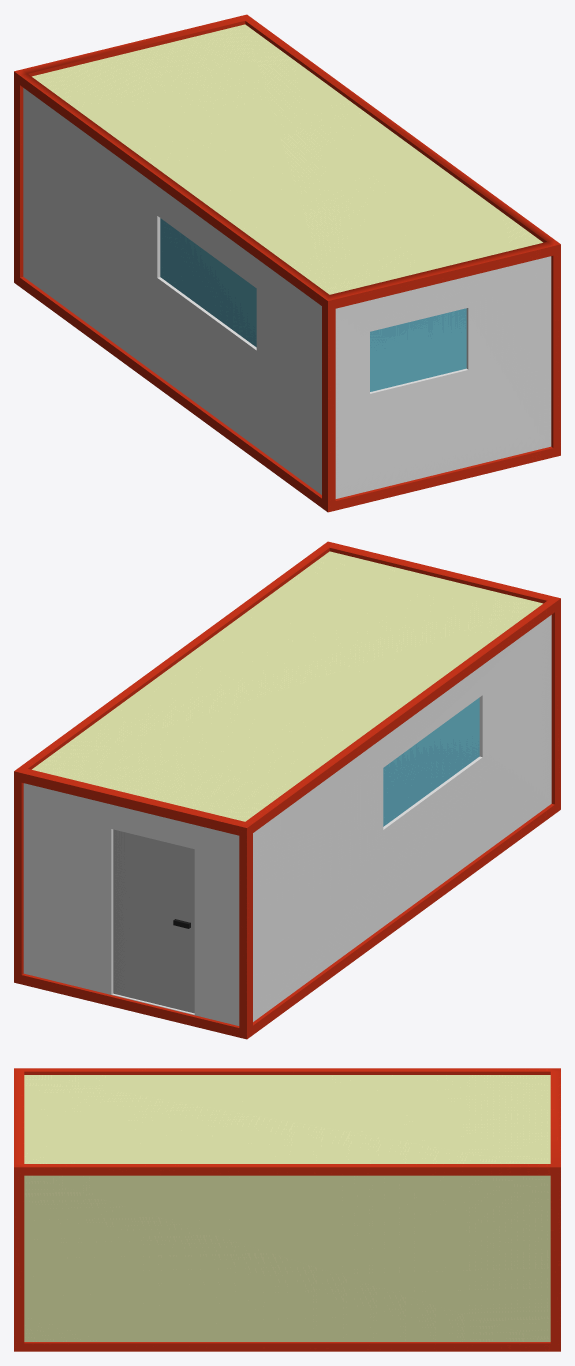
Rendered from container-office-red.glb.
3 views of the same model, one above another, from view 1: azimuth 30°, elevation 25°; view 2: azimuth 150°, elevation 25°; view 3: azimuth 270°, elevation 25° (orthographic). The views are drawn at different scales.
Visible parts, largest first — view 1: Office Container Single Red; view 2: Office Container Single Red; view 3: Office Container Single Red.
Part boxes in pixels (bbox=[...]): Office Container Single Red: bbox=[14, 14, 560, 512]; Office Container Single Red: bbox=[14, 541, 560, 1039]; Office Container Single Red: bbox=[14, 1068, 560, 1351].
Bounding box in the file's own units: 3 × 2.6 × 7.
1 material, 1 textured.
